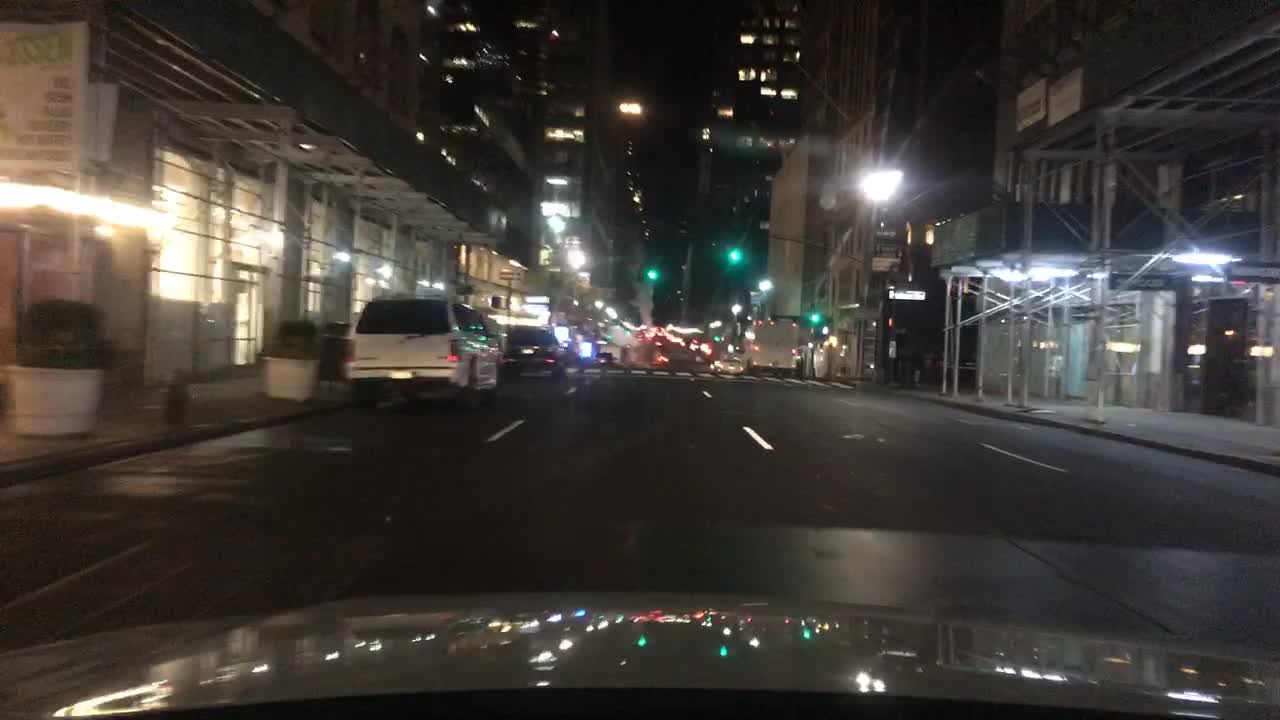car: (339, 292, 505, 416), (499, 323, 569, 380), (710, 356, 743, 375), (590, 350, 617, 368)
traffic light: (726, 245, 741, 265), (644, 265, 659, 281), (809, 311, 822, 323), (819, 324, 828, 338), (884, 314, 894, 326), (713, 332, 720, 344)
traffic sign: (1111, 272, 1168, 289), (872, 256, 902, 272), (496, 269, 524, 281)
truck: (746, 317, 801, 377)
